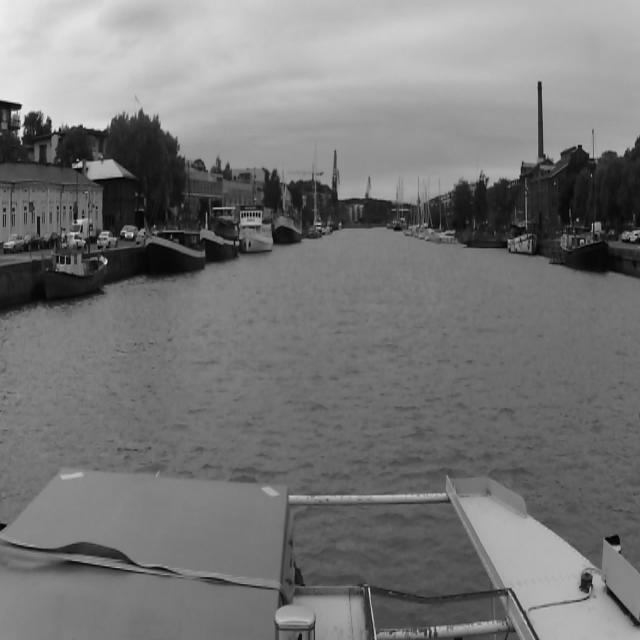ship: (42, 235, 108, 301), (562, 223, 612, 269), (144, 238, 204, 270), (201, 216, 239, 258), (239, 206, 273, 252), (458, 221, 506, 247), (308, 140, 320, 238), (392, 174, 410, 228), (418, 177, 432, 237), (273, 217, 302, 242), (405, 199, 419, 236), (509, 236, 539, 253), (434, 225, 456, 247)
